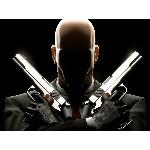Pistol: (82, 51, 146, 129), (8, 52, 72, 121)
